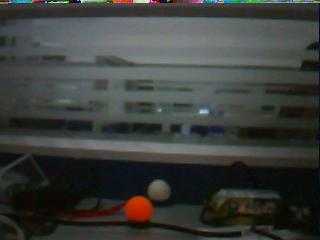oball: (125, 196, 153, 221)
